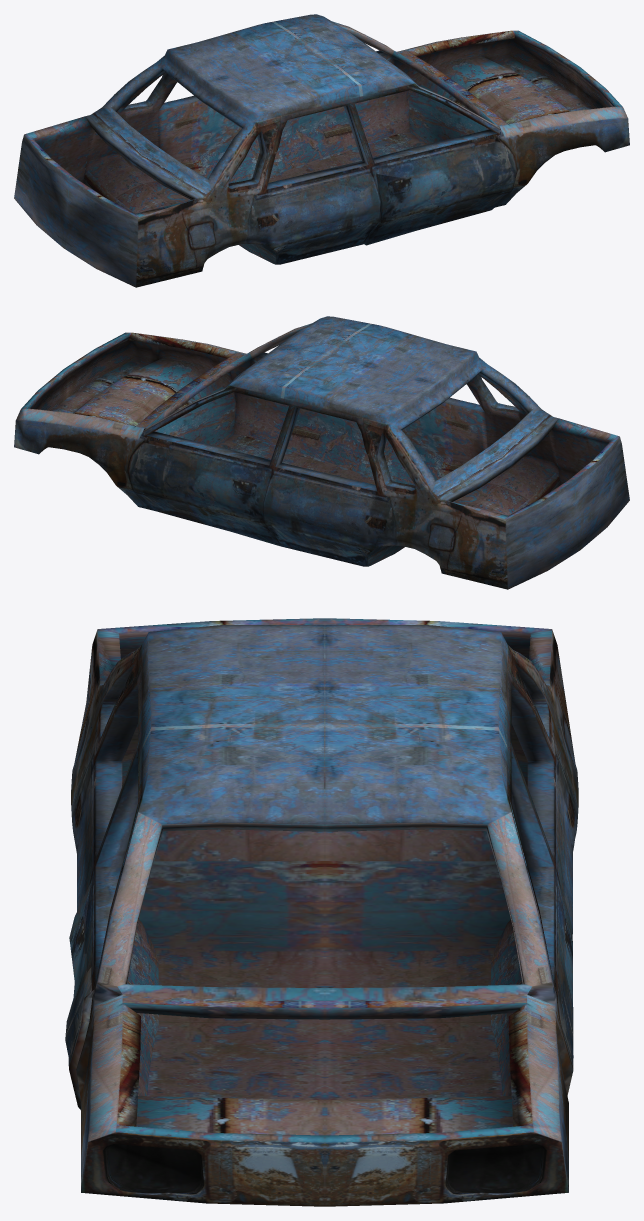
File: ruinedcar.fbx
3 renders of one model, top to bottom at view 1: azimuth 30°, elevation 25°; view 2: azimuth 150°, elevation 25°; view 3: azimuth 270°, elevation 25°, orthographic. The views are drawn at different scales.
Visible parts, largest first — view 1: Group3_ruinedcar, Group3_Form0; view 2: Group3_ruinedcar; view 3: Group3_ruinedcar, Group3_Form0.
Boxes of the visible parts, left/top/right/bottom form: Group3_ruinedcar: left=14, top=14, right=629, bottom=287; Group3_Form0: left=364, top=136, right=517, bottom=245; Group3_ruinedcar: left=14, top=316, right=629, bottom=589; Group3_ruinedcar: left=71, top=618, right=578, bottom=1206; Group3_Form0: left=65, top=881, right=94, bottom=1109.
Bounding box in the file's own units: 194 × 58.46 × 83.26.
